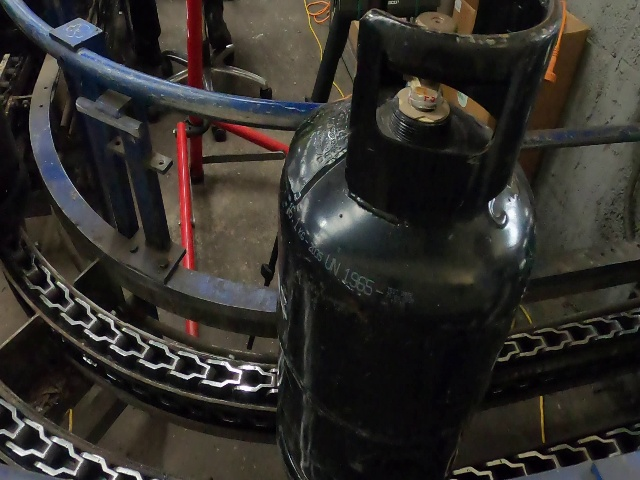gas_bottle: (32, 10, 628, 480)
